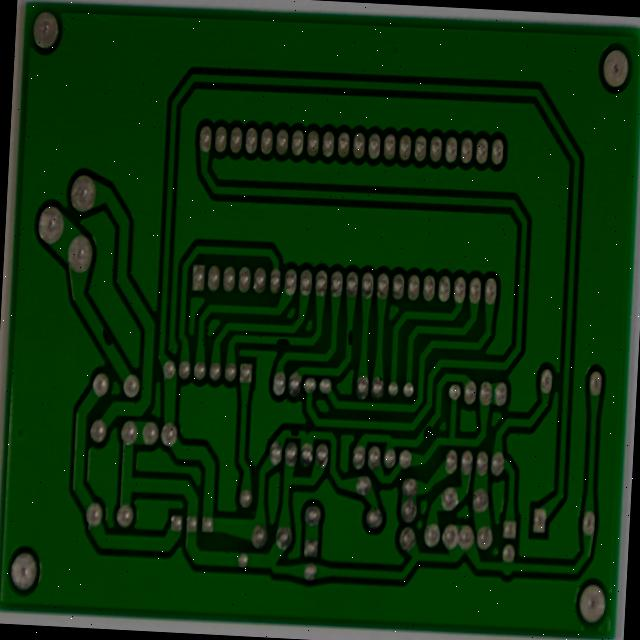mouse_bite: (106, 265, 130, 293), (296, 272, 323, 293), (373, 262, 391, 290), (455, 375, 471, 405), (310, 380, 330, 402)
